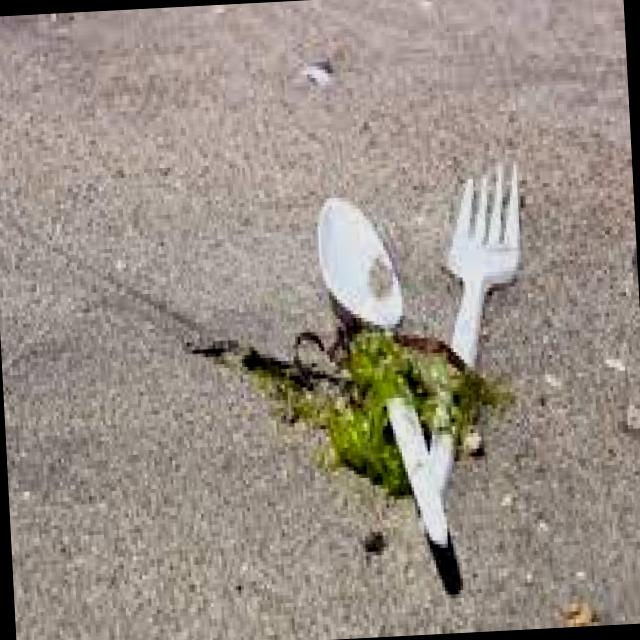nhua: (446, 161, 521, 369), (315, 203, 401, 330), (390, 398, 448, 546)
